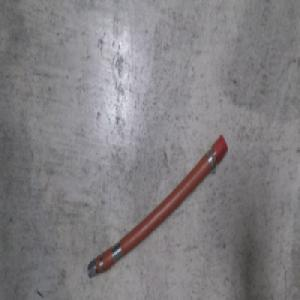Hose: (87, 130, 226, 281)
